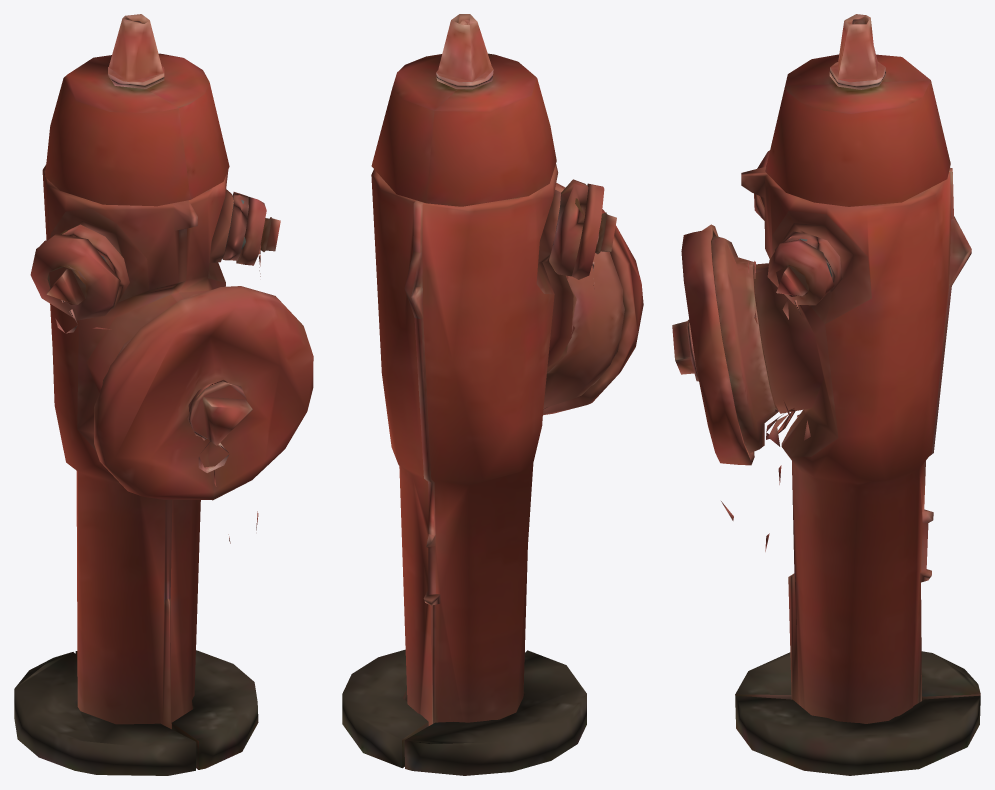
File: fire_hydrant.glb
The picture shows the model from 3 angles, left to right: view 1: azimuth 30°, elevation 25°; view 2: azimuth 150°, elevation 25°; view 3: azimuth 270°, elevation 25°; orthographic projection.
Visible parts, largest first — view 1: fire_hydrant; view 2: fire_hydrant; view 3: fire_hydrant.
Part boxes in pixels (x1,y1,x2,y2): fire_hydrant: (14,14,313,775); fire_hydrant: (342,14,643,775); fire_hydrant: (672,14,980,775).
Size of the model in its own units: 0.2728 by 0.7992 by 0.3173.
Materials: 1 (1 with a texture image).
